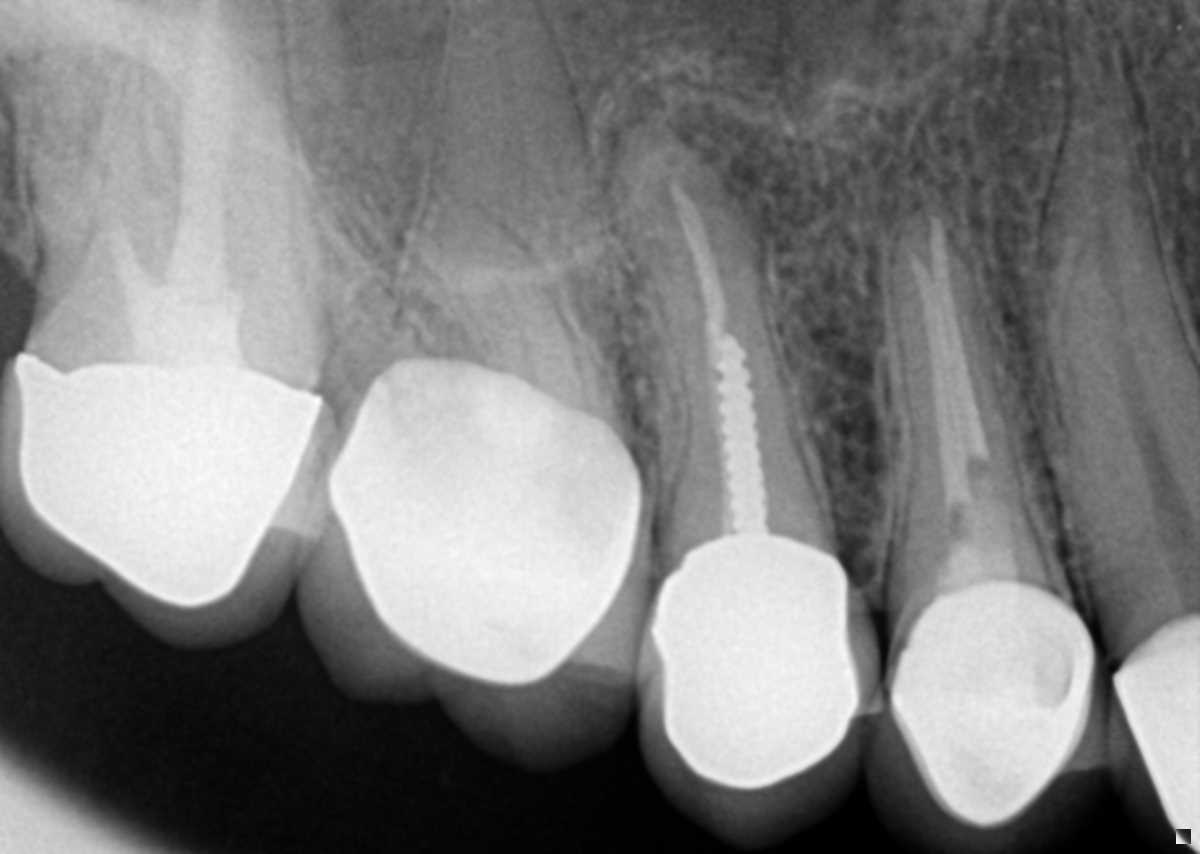Distal Root: (318, 153, 478, 421), (28, 0, 184, 273)
Main Canal: (1088, 72, 1197, 610)
Main Root: (1029, 0, 1200, 654), (609, 114, 831, 557), (878, 199, 1048, 618)
Mesial Canal: (490, 272, 538, 386)
Mesial Root: (139, 0, 292, 287), (444, 211, 585, 401)
Palatal Canal: (482, 5, 532, 245)
Palatal Root: (390, 0, 621, 421)
Root Canal Filling: (104, 0, 246, 356), (906, 243, 972, 512), (932, 226, 988, 460), (670, 178, 729, 356)
